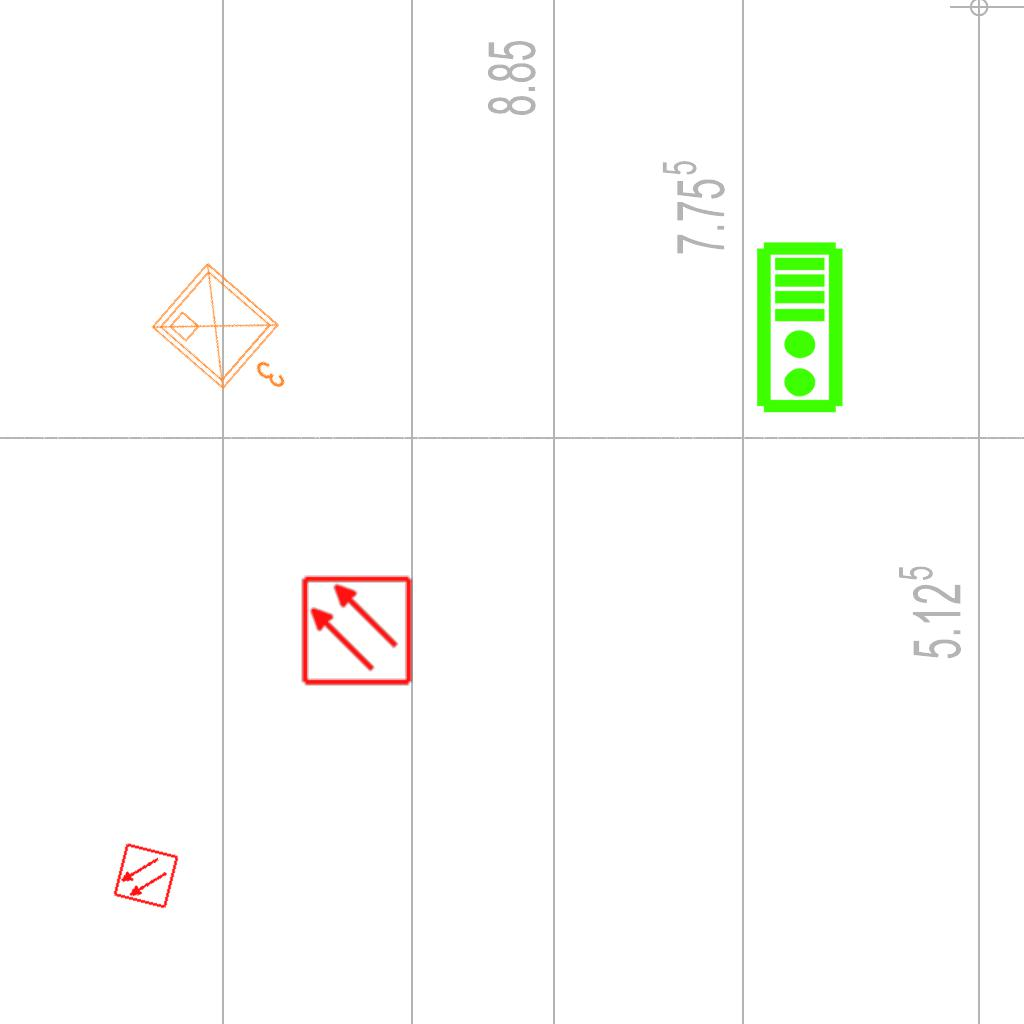Einbaudownlights_LED_Konferenzraeume: (141, 249, 323, 427)
Gegensprechanlage_mit_Video: (754, 240, 849, 416)
RMO_Rauchmelder_optischer: (300, 574, 413, 687), (112, 842, 180, 910)
